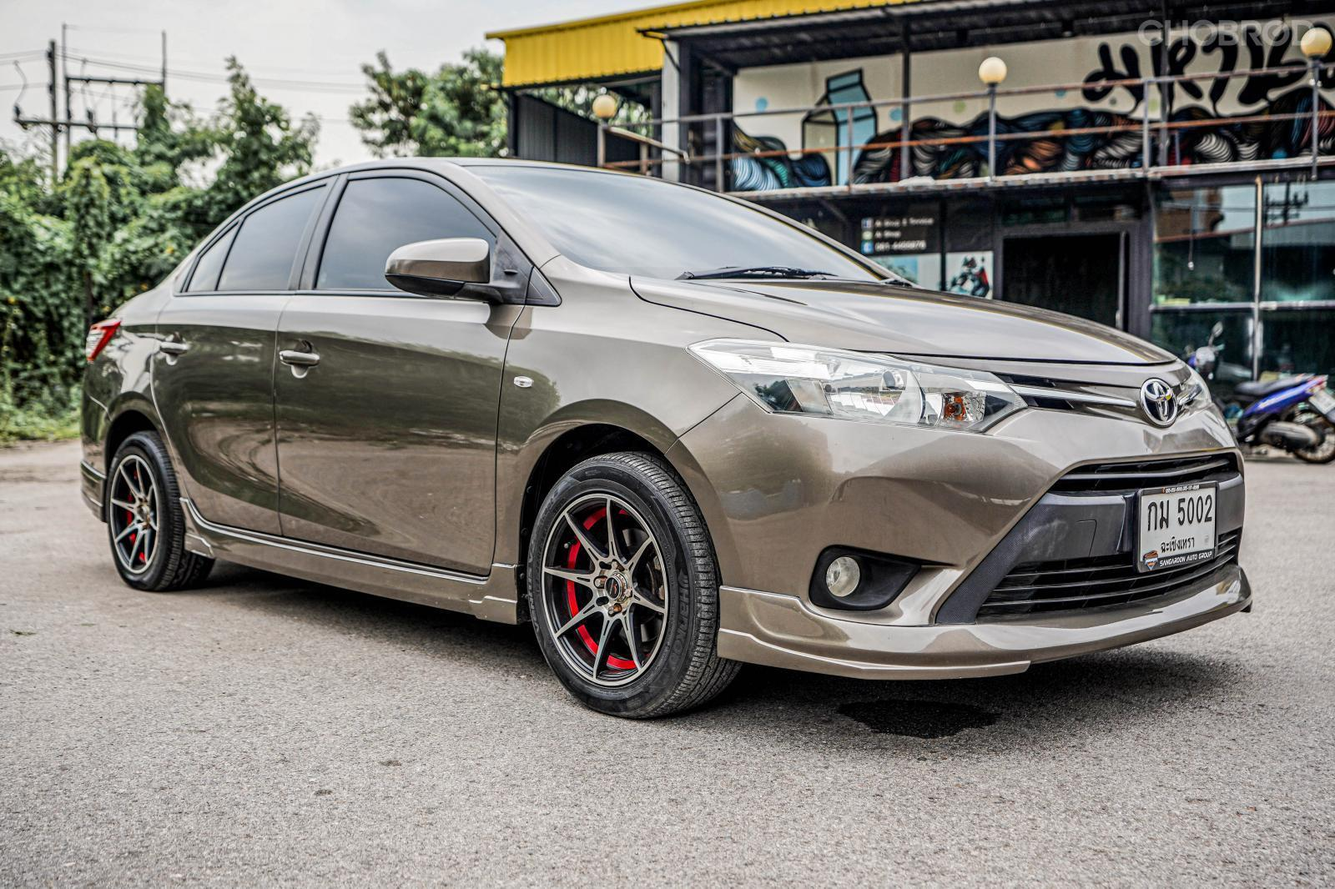license-plate: (1127, 473, 1222, 585)
